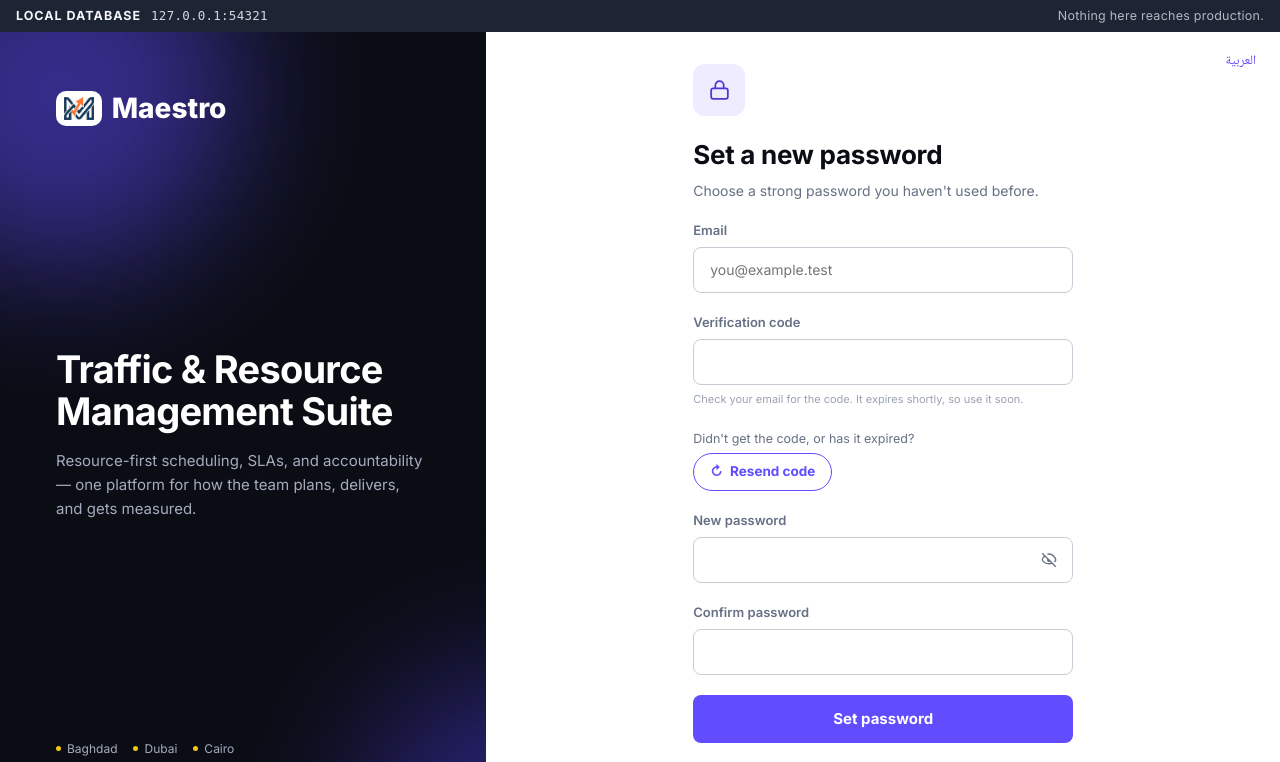
Test: SetPasswordPage — code + password (ADR-0012) › resends a fresh code and notifies the user
This screenshot has width=1280, height=762.
Type "a@b.co" into the field with test id "set-password-email".
click(883, 270); type("a@b.co")  # box [708,259,1058,281]
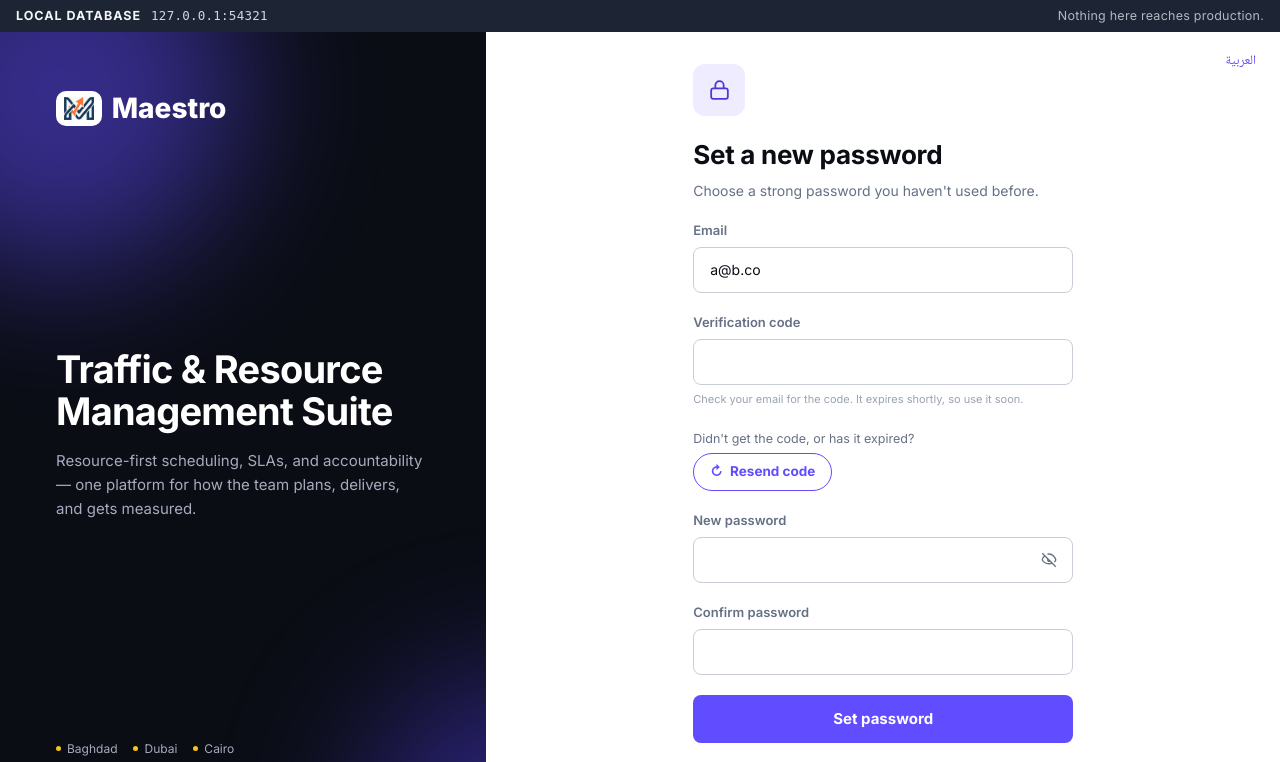
Click the button with test id "set-password-resend".
click(763, 472)  # box [693,453,832,491]
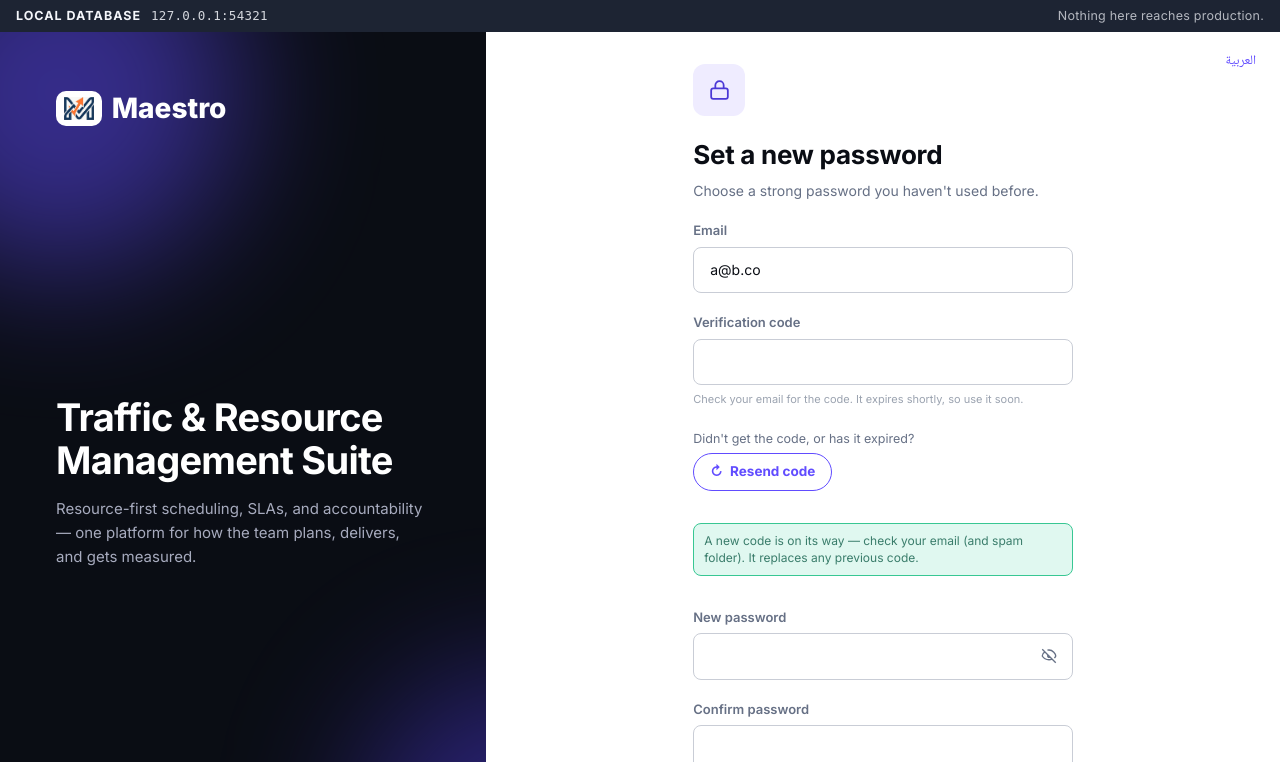
Expected: the message with test id "set-password-notice" is shown, [693,523,1073,576]
